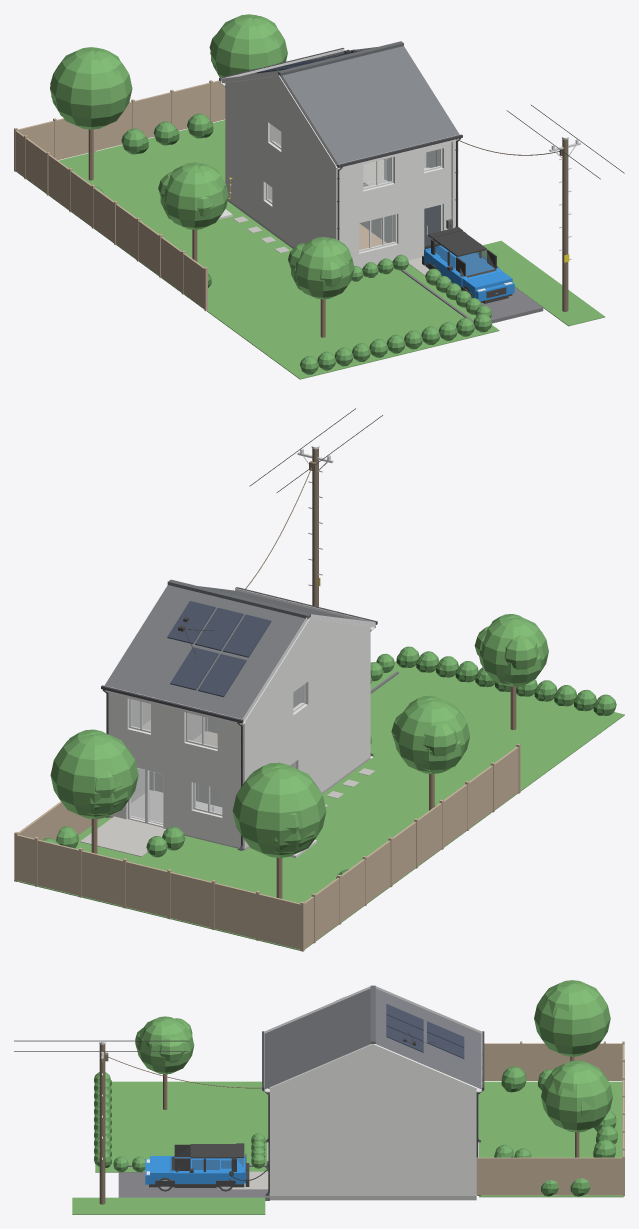
The model's file is Taylor_Wimpey_Blair.glb.
The picture shows the model from 3 angles, top to bottom: view 1: azimuth 30°, elevation 25°; view 2: azimuth 150°, elevation 25°; view 3: azimuth 270°, elevation 25°; orthographic projection. The views are drawn at different scales.
Visible parts, largest first — view 1: Landscape_Grass, Exterior_Walls, Landscape_Trees_Foliage, Landscape_Fencing, Roof_Main, Landscape_Bushes, Car_Peugeot_e2008_Body, Windows_Glass, Car_Peugeot_e2008_Trim, Utility_Pylon_Grid, Fascia_and_Soffits, Driveway (+7 smaller); view 2: Landscape_Grass, Exterior_Walls, Landscape_Fencing, Landscape_Trees_Foliage, Roof_Main, Roof_Solar_Panels, Landscape_Bushes, Windows_Glass, Landscape_Paving, Fascia_and_Soffits, Utility_Pylon_Grid, Rainwater_Gutters (+6 smaller); view 3: Separating_Party_Wall, Landscape_Grass, Landscape_Trees_Foliage, Roof_Main, Landscape_Fencing, Landscape_Bushes, Car_Peugeot_e2008_Body, Roof_Solar_Panels, Car_Peugeot_e2008_Trim, Driveway, Utility_Pylon_Grid, Landscape_Bushes_Dark (+7 smaller).
Part boxes in pixels (x1,y1,x2,y2): Landscape_Grass: [16, 120, 604, 379]; Exterior_Walls: [225, 76, 451, 268]; Landscape_Trees_Foliage: [50, 14, 354, 299]; Landscape_Fencing: [14, 80, 225, 311]; Roof_Main: [241, 46, 459, 164]; Landscape_Bushes: [95, 113, 492, 374]; Car_Peugeot_e2008_Body: [424, 245, 514, 301]; Windows_Glass: [268, 125, 440, 250]; Car_Peugeot_e2008_Trim: [422, 227, 512, 303]; Utility_Pylon_Grid: [451, 139, 568, 311]; Fascia_and_Soffits: [220, 49, 461, 169]; Driveway: [401, 269, 543, 323]; Landscape_Grass: [14, 661, 624, 950]; Exterior_Walls: [113, 619, 370, 848]; Landscape_Fencing: [14, 743, 520, 951]; Landscape_Trees_Foliage: [50, 614, 548, 857]; Roof_Main: [104, 585, 351, 719]; Roof_Solar_Panels: [167, 601, 271, 697]; Landscape_Bushes: [42, 646, 616, 878]; Windows_Glass: [131, 685, 303, 822]; Landscape_Paving: [80, 768, 374, 856]; Fascia_and_Soffits: [102, 588, 375, 725]; Utility_Pylon_Grid: [245, 448, 318, 606]; Rainwater_Gutters: [101, 587, 377, 850]; Separating_Party_Wall: [270, 1044, 476, 1195]; Landscape_Grass: [72, 1081, 623, 1214]; Landscape_Trees_Foliage: [135, 980, 612, 1132]; Roof_Main: [264, 988, 481, 1089]; Landscape_Fencing: [476, 1041, 624, 1196]; Landscape_Bushes: [94, 1066, 617, 1195]; Car_Peugeot_e2008_Body: [145, 1155, 246, 1184]; Roof_Solar_Panels: [386, 1004, 464, 1058]; Car_Peugeot_e2008_Trim: [149, 1143, 249, 1187]; Driveway: [118, 1165, 269, 1200]; Utility_Pylon_Grid: [99, 1044, 269, 1204]; Landscape_Bushes_Dark: [105, 1077, 607, 1196].
Bounding box in the file's own units: 13.56 × 7.88 × 26.26.
